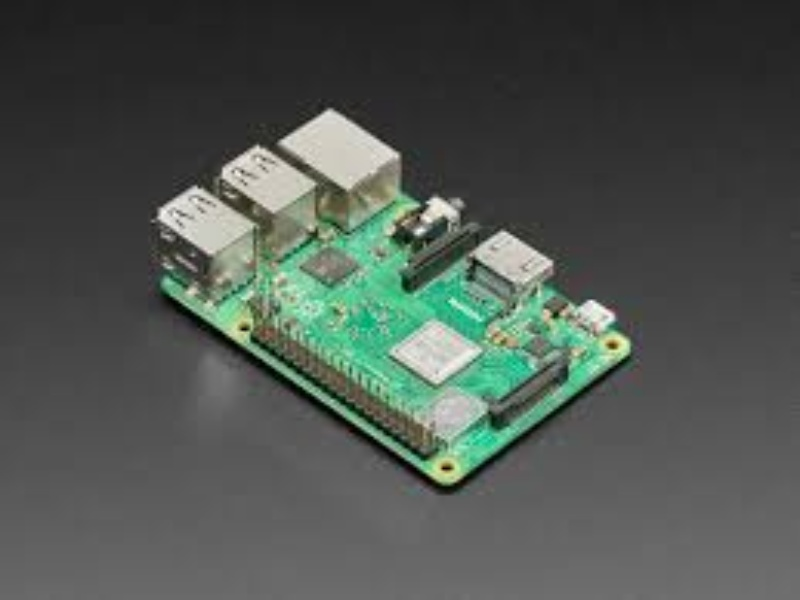raspberrypi: (140, 97, 648, 491)
